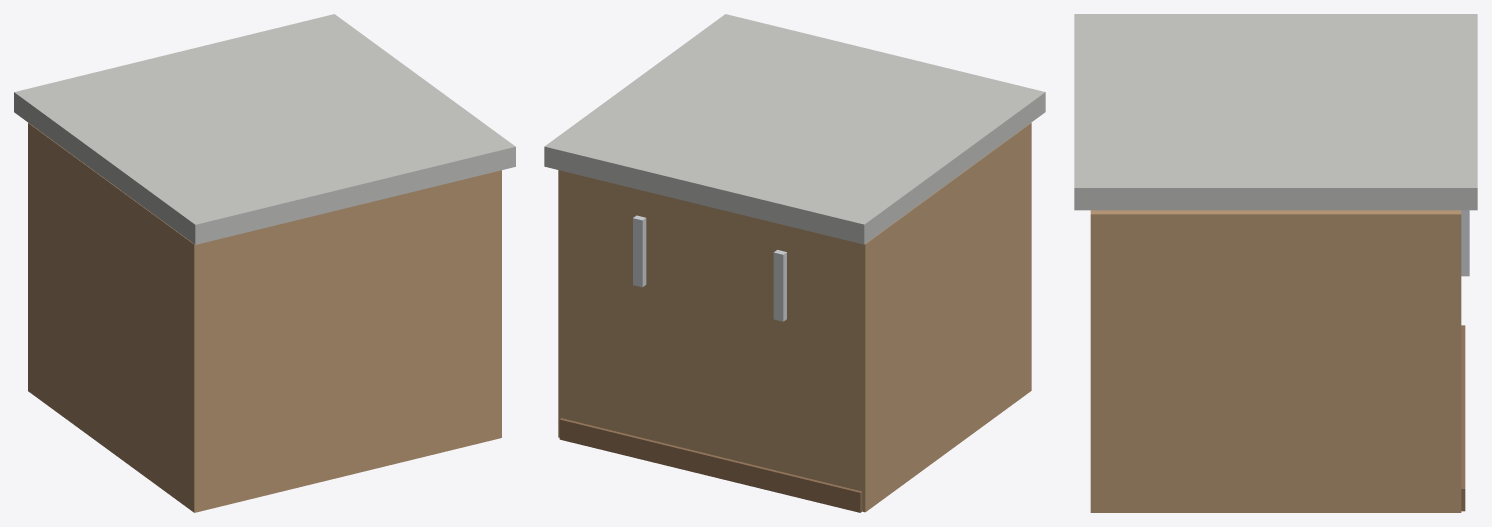
The model's file is counter.glb.
3 renders of one model, left to right at view 1: azimuth 30°, elevation 25°; view 2: azimuth 150°, elevation 25°; view 3: azimuth 270°, elevation 25°, orthographic. The views are drawn at different scales.
Parts seen in each view (by area): view 1: counter; view 2: counter; view 3: counter.
Boxes of the visible parts, x1,y1,x2,y2 form: counter: (14,14,515,512); counter: (544,14,1045,512); counter: (1074,14,1477,512).
Bounding box in the file's own units: 1 × 0.88 × 0.98.
